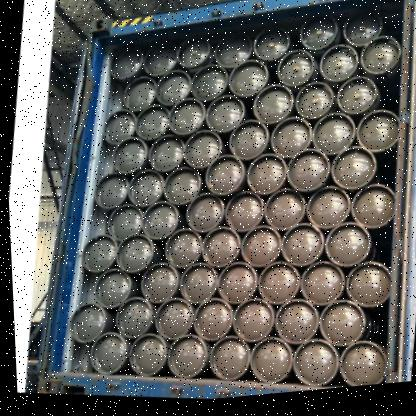gas-tank: (336, 253, 395, 324), (343, 181, 400, 247), (279, 339, 343, 396), (349, 108, 405, 170), (267, 223, 329, 279), (237, 335, 299, 391), (314, 219, 372, 278), (306, 300, 364, 359), (293, 260, 349, 318), (330, 336, 386, 393), (275, 151, 334, 205), (231, 222, 285, 279), (322, 145, 377, 200), (305, 113, 361, 166), (106, 226, 157, 284), (79, 322, 130, 380), (213, 114, 268, 167), (175, 190, 230, 243), (309, 40, 363, 93), (264, 300, 317, 354), (223, 299, 276, 353), (109, 292, 161, 347), (297, 192, 354, 242), (161, 333, 213, 387), (194, 155, 247, 207), (237, 149, 287, 204), (209, 261, 261, 313), (333, 75, 386, 126), (132, 197, 183, 250), (249, 264, 302, 315), (192, 223, 242, 276), (154, 226, 204, 278), (183, 298, 233, 350), (179, 62, 232, 111), (217, 189, 265, 242), (358, 36, 404, 91), (200, 338, 251, 387), (260, 120, 312, 168), (98, 35, 147, 85), (73, 231, 120, 282), (60, 301, 105, 354), (150, 293, 196, 344), (135, 39, 184, 86), (207, 32, 255, 79), (100, 200, 147, 248), (103, 138, 152, 184), (131, 264, 179, 310), (229, 57, 273, 107), (170, 265, 217, 311), (179, 126, 224, 174), (122, 331, 167, 379), (274, 48, 318, 97), (121, 167, 163, 217), (295, 16, 342, 60), (263, 189, 304, 239), (114, 72, 161, 115), (141, 133, 186, 177), (251, 25, 293, 72), (203, 94, 245, 141), (292, 83, 335, 127), (165, 96, 207, 141), (248, 87, 291, 130), (90, 269, 133, 312), (151, 68, 195, 110), (173, 32, 212, 79), (160, 164, 199, 211), (130, 97, 168, 144), (347, 11, 384, 58), (92, 172, 129, 218), (104, 107, 139, 149)
